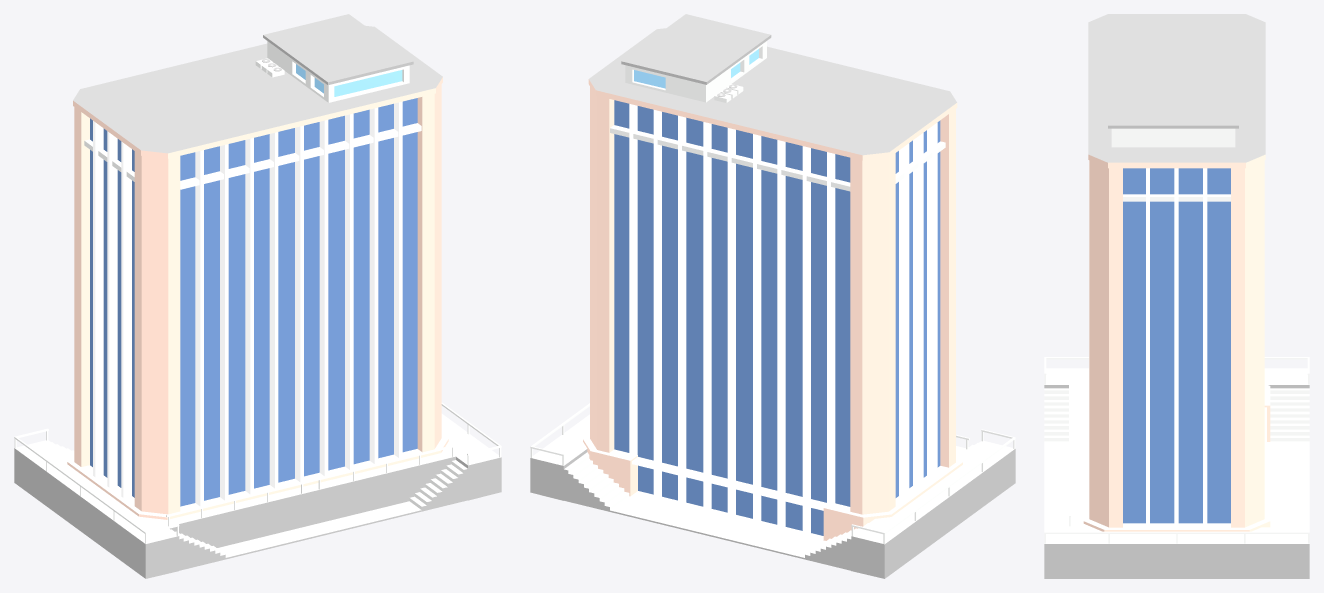
File: business centers.glb
3 views of the same model, side by side, from view 1: azimuth 30°, elevation 25°; view 2: azimuth 150°, elevation 25°; view 3: azimuth 270°, elevation 25° (orthographic).
Parts seen in each view (by area): view 1: business centers(Clone); view 2: business centers(Clone); view 3: business centers(Clone).
Boxes of the visible parts, bbox=[...] form: business centers(Clone): bbox=[14, 14, 501, 578]; business centers(Clone): bbox=[530, 14, 1015, 578]; business centers(Clone): bbox=[1044, 14, 1309, 578].
Size of the model in its own units: 23.38 by 26.71 by 14.95.
Materials: 1 (1 with a texture image).
